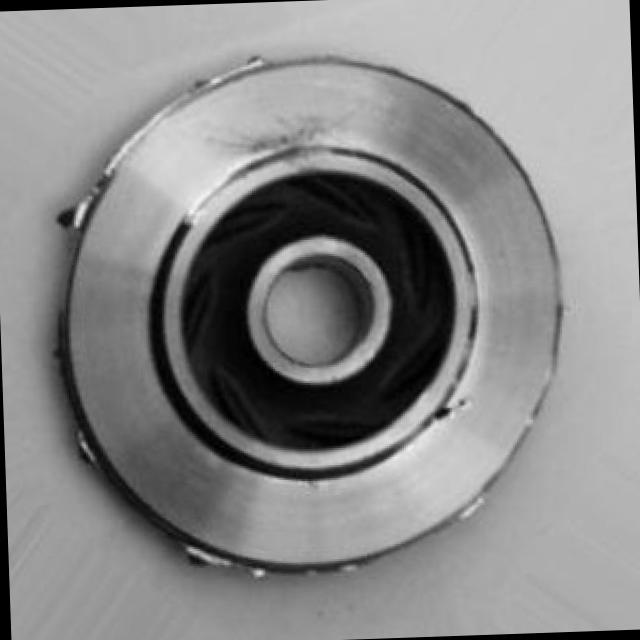Defect: (54, 187, 98, 233)
